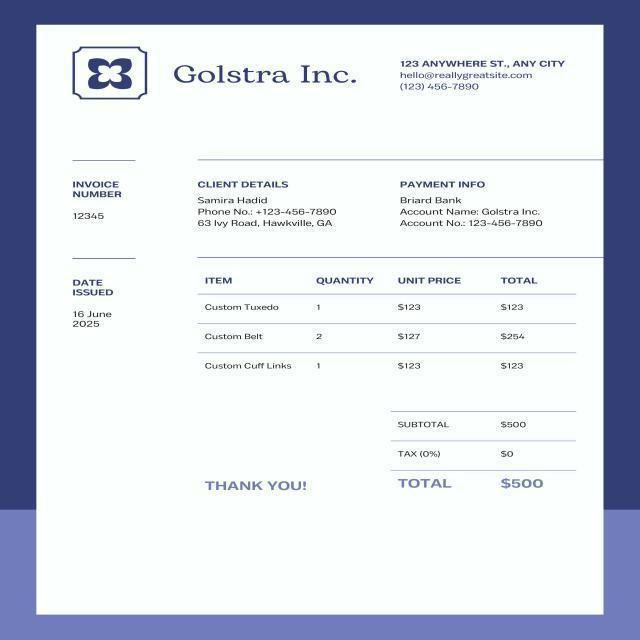ROI: (183, 267, 585, 383), (384, 393, 582, 506), (188, 173, 343, 237), (395, 177, 547, 237), (172, 50, 365, 96), (50, 41, 170, 106), (391, 56, 568, 100), (56, 271, 129, 343), (59, 172, 128, 229), (202, 471, 312, 506)
